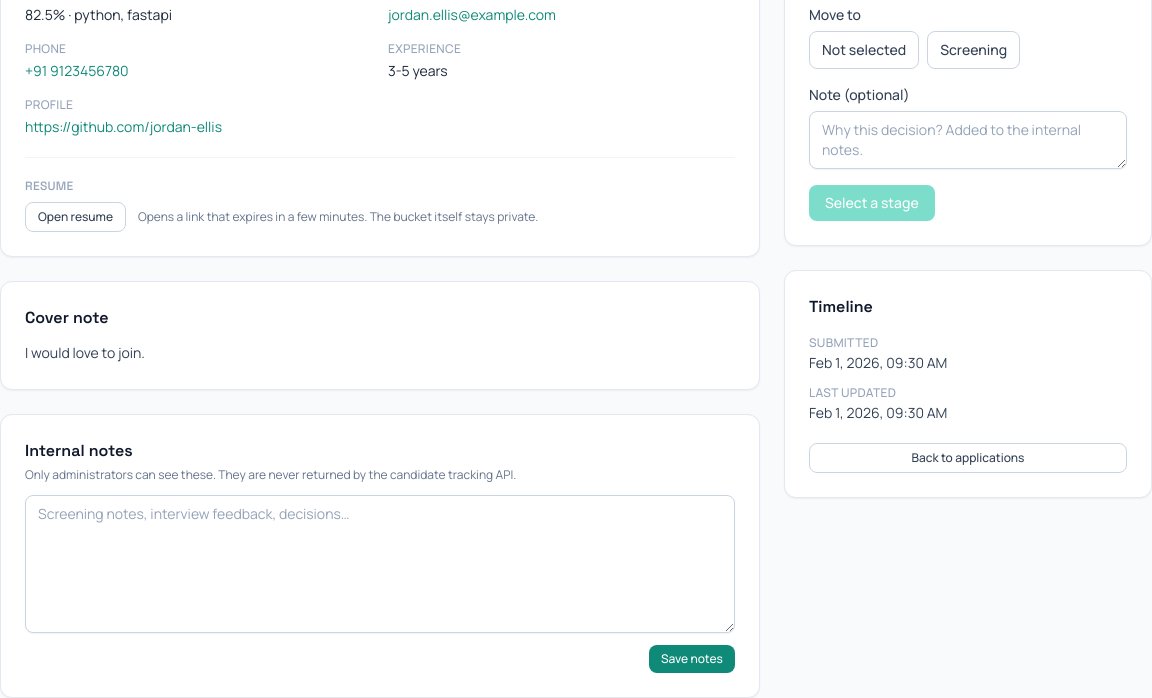
AdminApplicationDetailPage › saves internal notes
(page scrolled)
Type "Scheduled a design round." into the text box with placeholder "Screening notes, interview feedback, decisions…" at (380, 564), box [25,495,735,633]
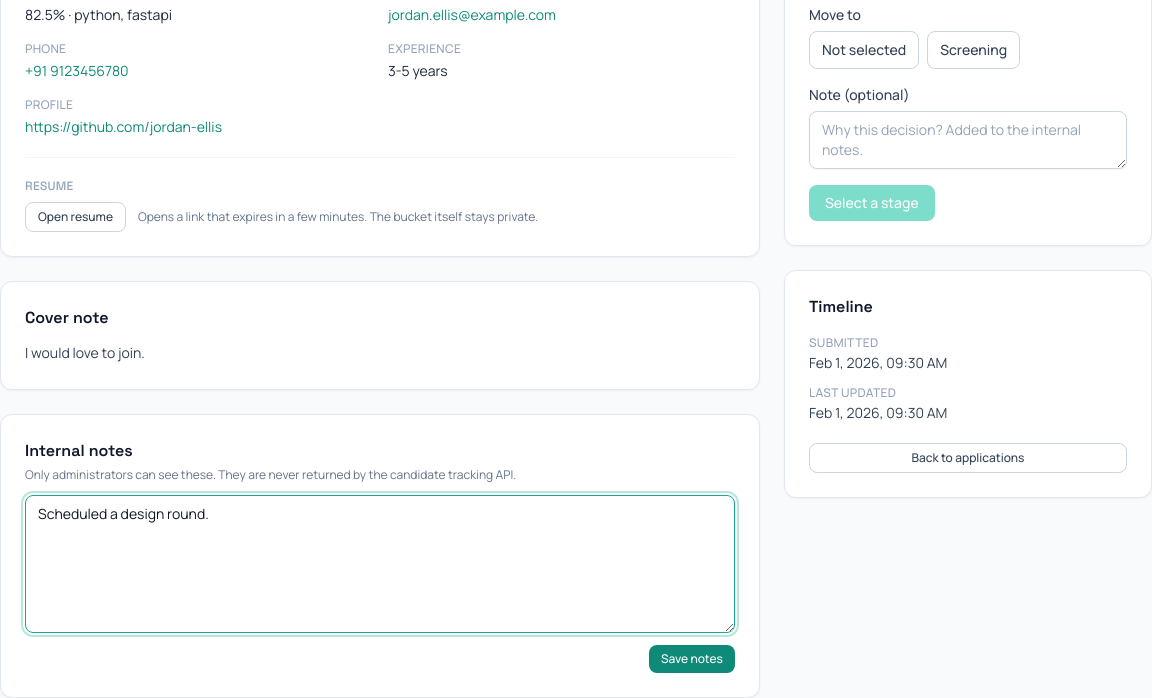
Click the button "Save notes" at (692, 659), box [649,645,735,673]
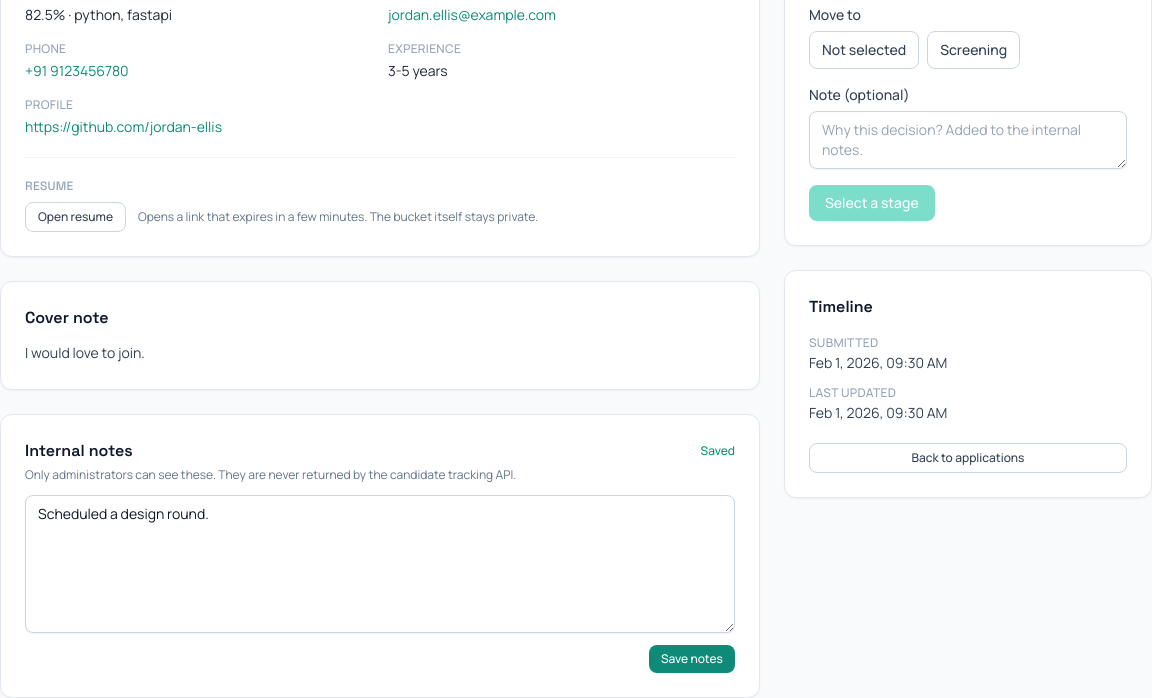
expect the text "Saved" is shown: met, box [701,443,735,459]
